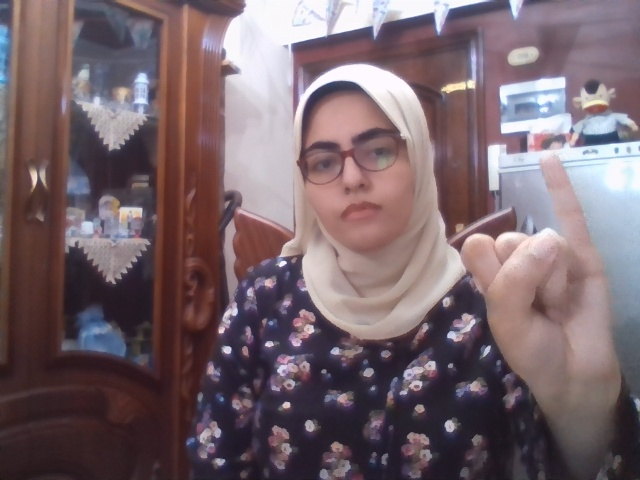I: (461, 150, 619, 396)
